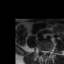CCS_normal: (43, 48, 45, 57)
LFS_normal: (47, 48, 49, 55)
LLS_normal: (45, 49, 47, 55)
RFS_stenosis: (39, 48, 41, 54)
RLS_stenosis: (41, 48, 43, 55)
